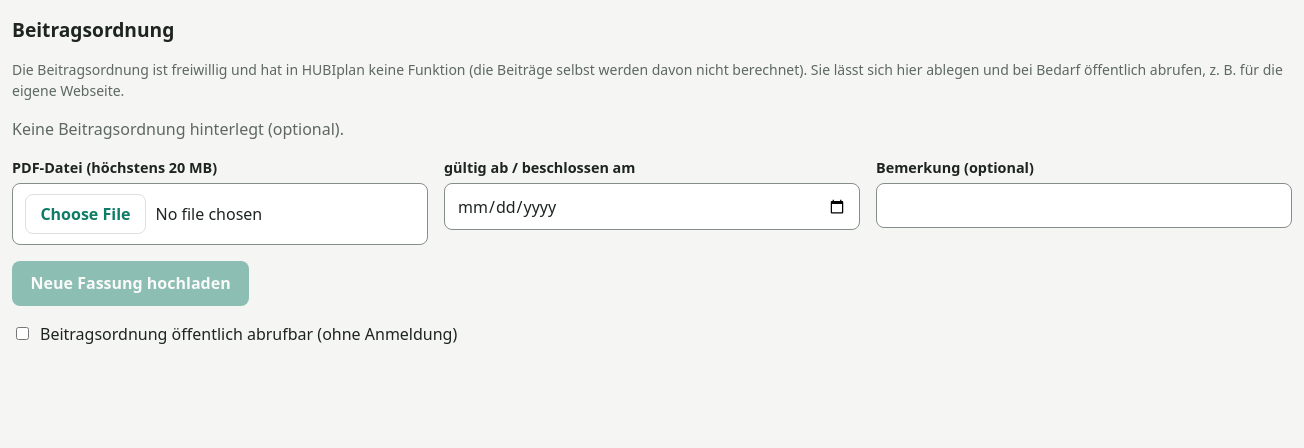
Satzung › Beitragsordnung: eigene Abfrage, eigener Text, Art beim Freischalten
Expected: the text "Keine Beitragsordnung hinterlegt (optional)." is shown, left=12, top=118, right=344, bottom=140
Expected: the heading "Beitragsordnung" is shown, left=12, top=16, right=174, bottom=43
Click the checkbox labelled "Beitragsordnung öffentlich abrufbar (ohne Anmeldung)".
click(22, 333)  # box left=16, top=327, right=29, bottom=340
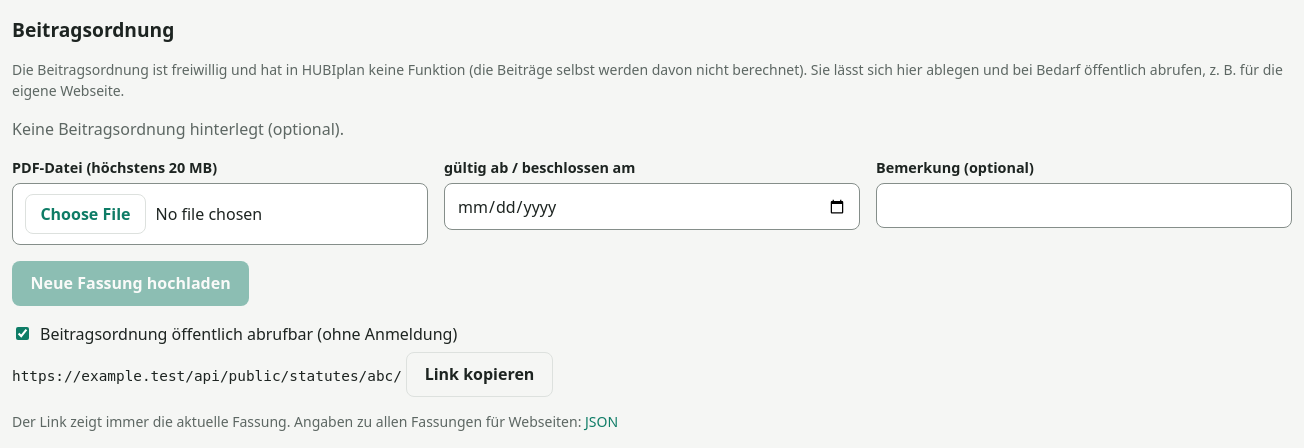
Expected: the text "https://example.test/api/public/statutes/abc/" is shown, left=12, top=367, right=402, bottom=383
